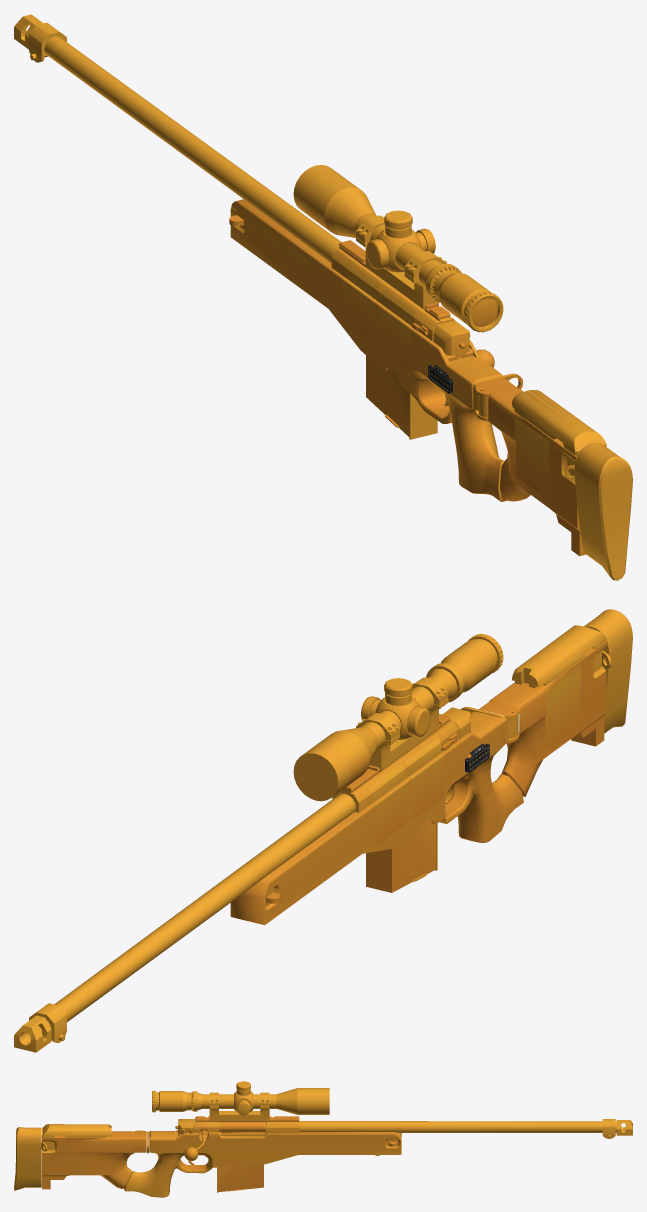
File: awm.glb
3 renders of one model, top to bottom at view 1: azimuth 30°, elevation 25°; view 2: azimuth 150°, elevation 25°; view 3: azimuth 270°, elevation 25°, orthographic. The views are drawn at different scales.
Parts seen in each view (by area): view 1: LOD_Template, Magazine1, Sticker3, Sticker2, Sticker4, Sticker1, Gunlock2; view 2: LOD_Template, Magazine1, Sticker3, Sticker2, Sticker4, Sticker1; view 3: LOD_Template, Magazine1, Gunlock2, Gunlock1.
Part boxes in pixels (<box>): LOD_Template: <box>14,14,632,580</box>; Magazine1: <box>366,355,437,439</box>; Sticker3: <box>377,288,416,372</box>; Sticker2: <box>342,262,380,344</box>; Sticker4: <box>515,416,550,501</box>; Sticker1: <box>305,174,351,235</box>; Gunlock2: <box>433,320,470,357</box>; LOD_Template: <box>14,609,632,1052</box>; Magazine1: <box>366,819,437,892</box>; Sticker3: <box>405,737,444,820</box>; Sticker2: <box>369,763,408,846</box>; Sticker4: <box>545,665,580,750</box>; Sticker1: <box>329,730,372,788</box>; LOD_Template: <box>14,1081,632,1197</box>; Magazine1: <box>217,1162,263,1192</box>; Gunlock2: <box>175,1119,265,1134</box>; Gunlock1: <box>184,1130,206,1160</box>.
Bounding box in the file's own units: 0.0669 × 0.1938 × 0.9869.
6 materials, 6 textured.
